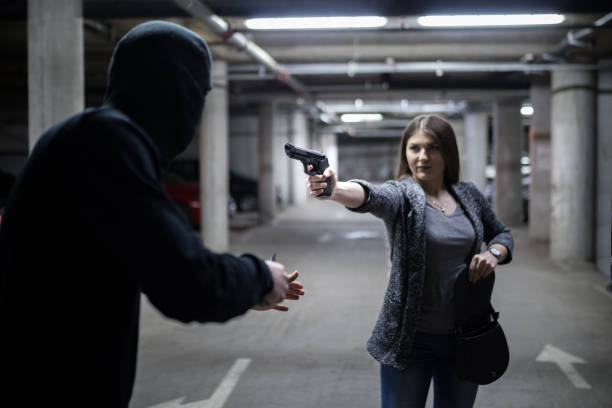gun: (285, 142, 332, 198)
knife: (258, 252, 279, 308)
